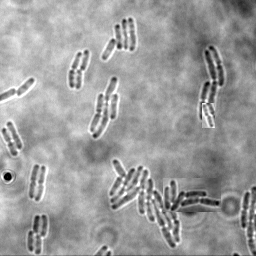Dividing: (67, 52, 81, 89), (1, 128, 18, 157), (34, 166, 47, 202), (28, 164, 39, 200), (239, 192, 249, 229), (202, 103, 215, 128)
Microcolony: (109, 158, 180, 249), (163, 178, 221, 212), (88, 76, 119, 139), (199, 45, 224, 121), (101, 18, 136, 61), (27, 214, 48, 255)
Rod: (5, 121, 23, 150), (16, 78, 34, 99), (79, 50, 89, 72), (73, 69, 82, 90)
